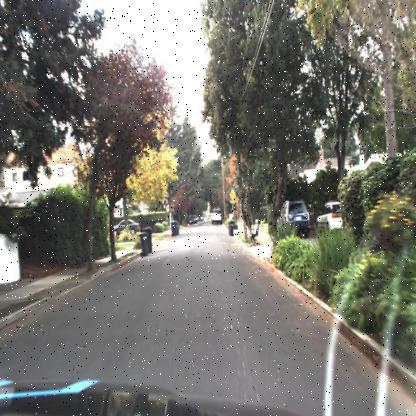car: (276, 194, 311, 242), (315, 192, 352, 236), (110, 211, 144, 238), (208, 206, 224, 231), (188, 211, 200, 226)
